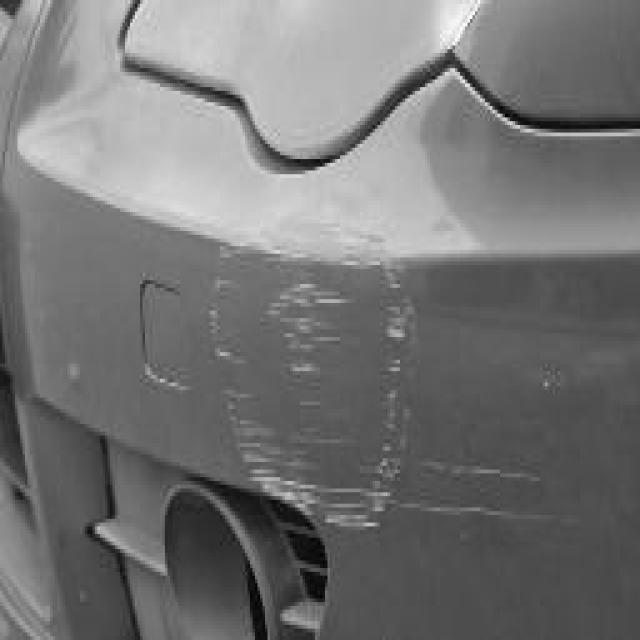Bumper: (185, 178, 568, 606)
